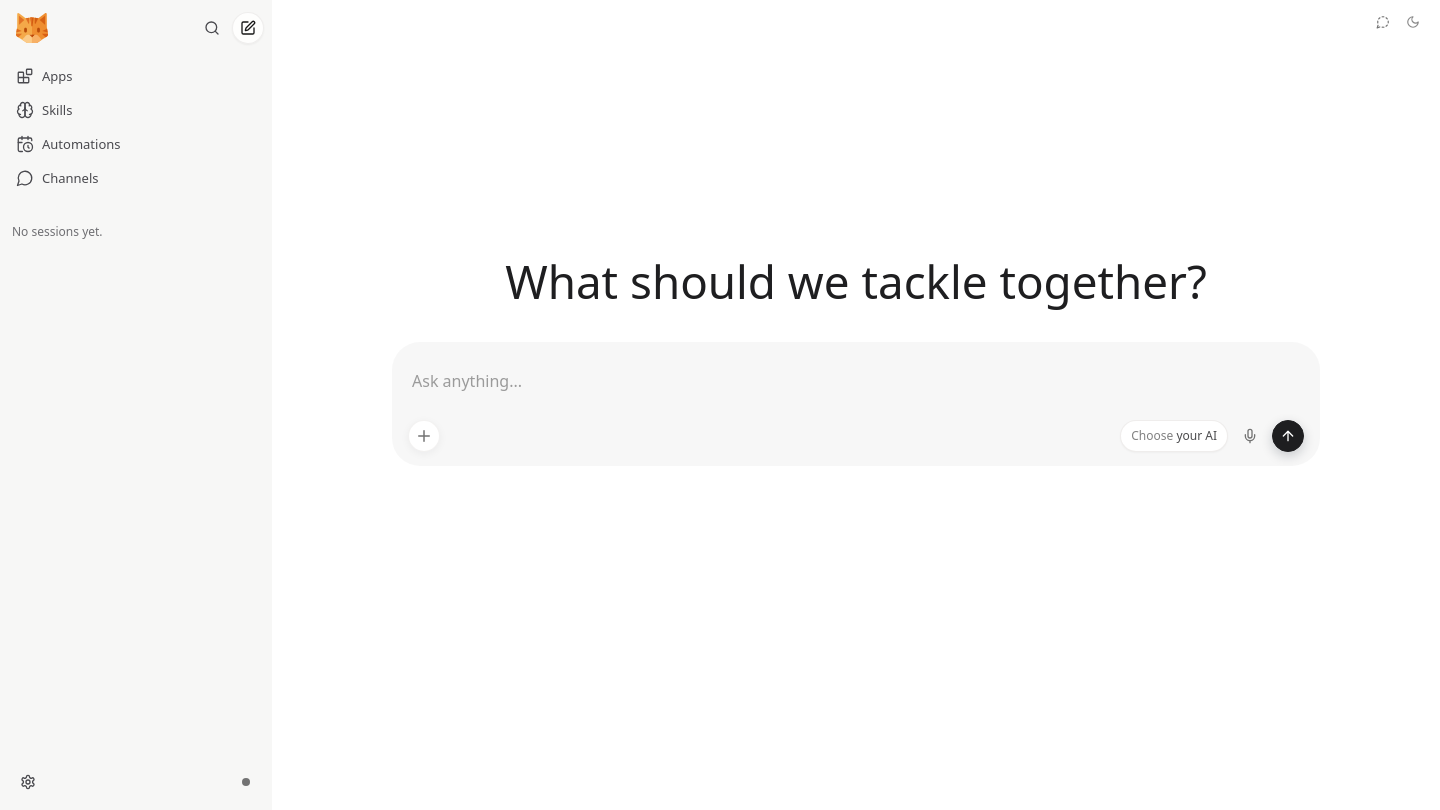
Test: App layout › keeps long automation details expandable without nested scrolling
This screenshot has width=1440, height=810.
Click the button "Automations": [136, 144] box [8,128,264,160]
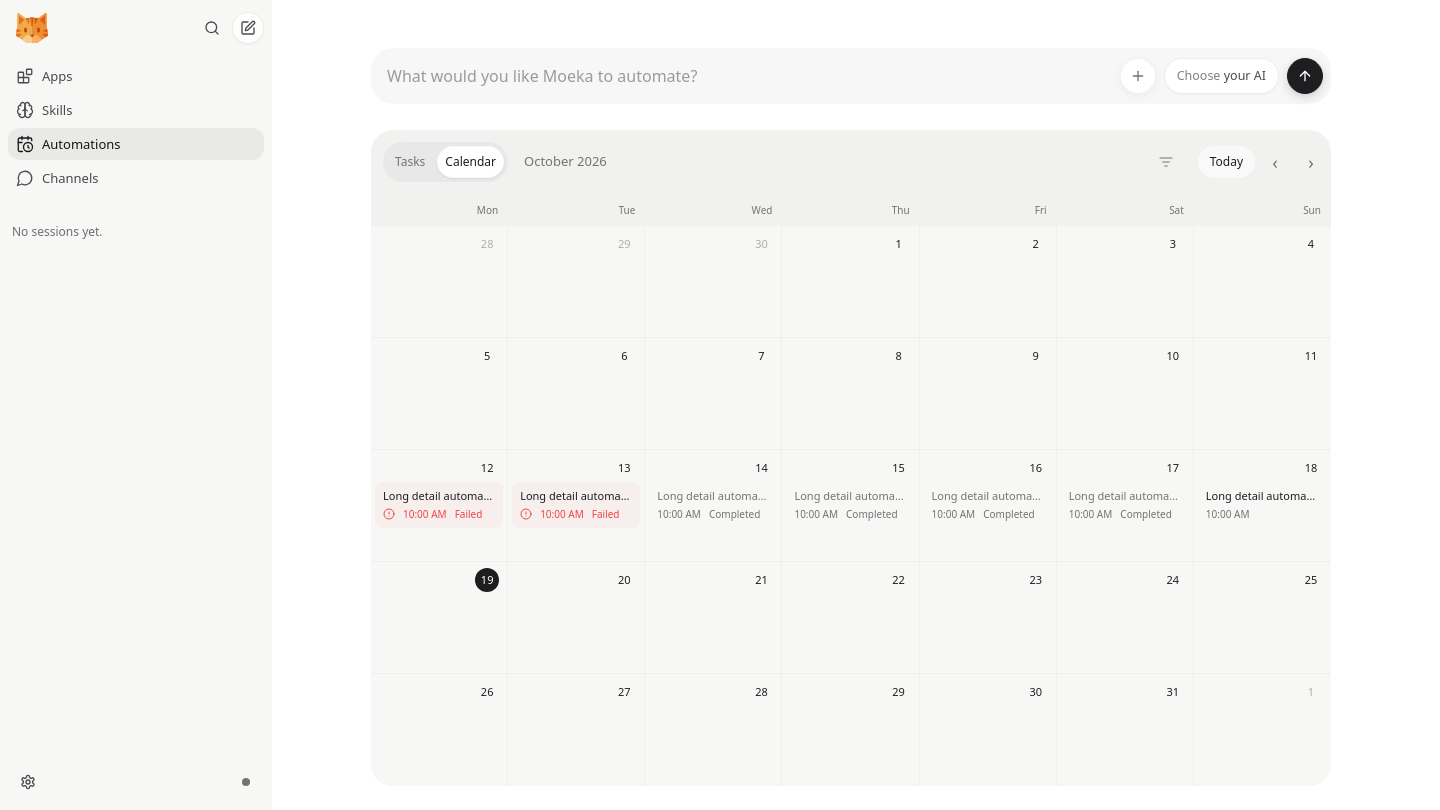
Click the button "Long detail automation 10:00 AM": [1262, 505] box [1198,482,1327,528]
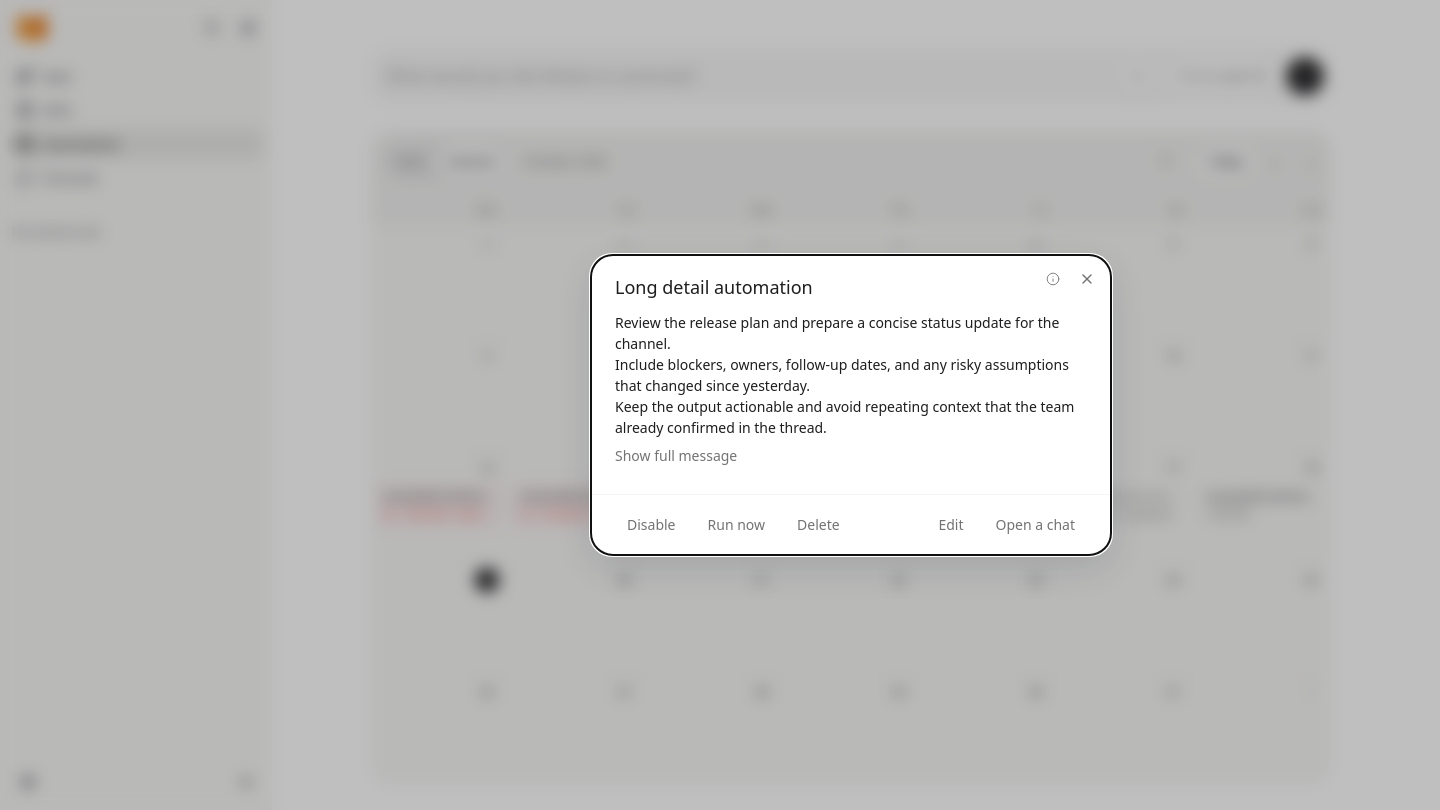
Click the button "Show full message": [676, 456] box [615,446,737,466]
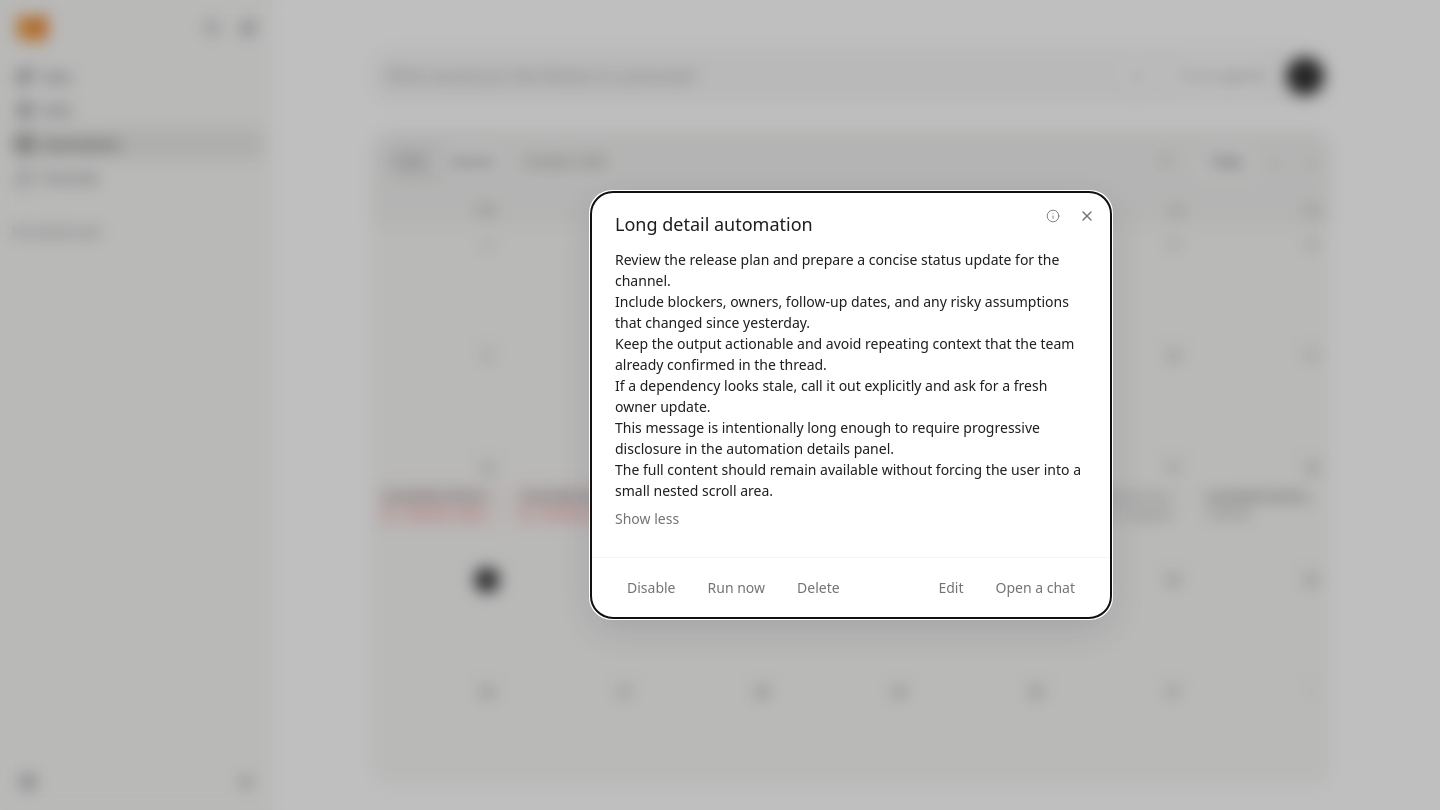
Check: the button "Show less" is shown, box [615,509,679,529]
